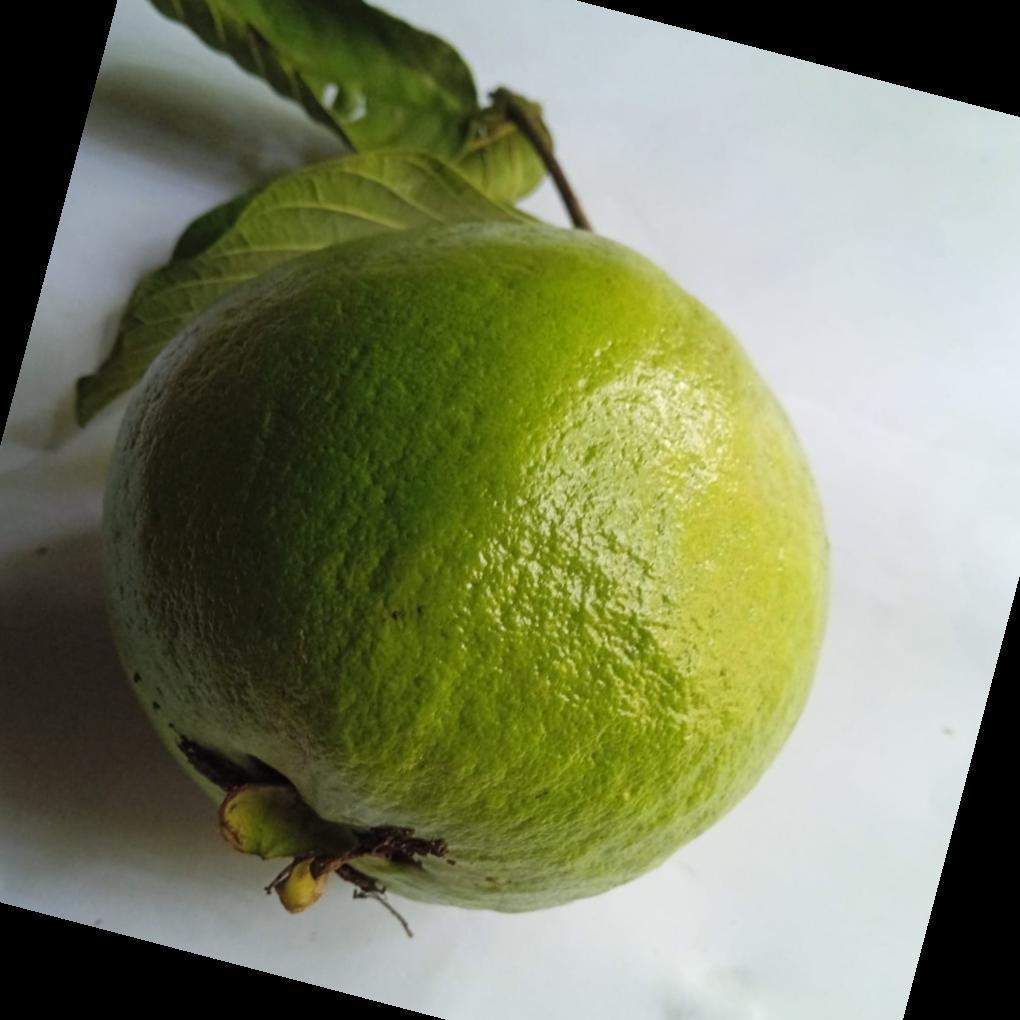FreshGuava: (98, 213, 831, 920)
